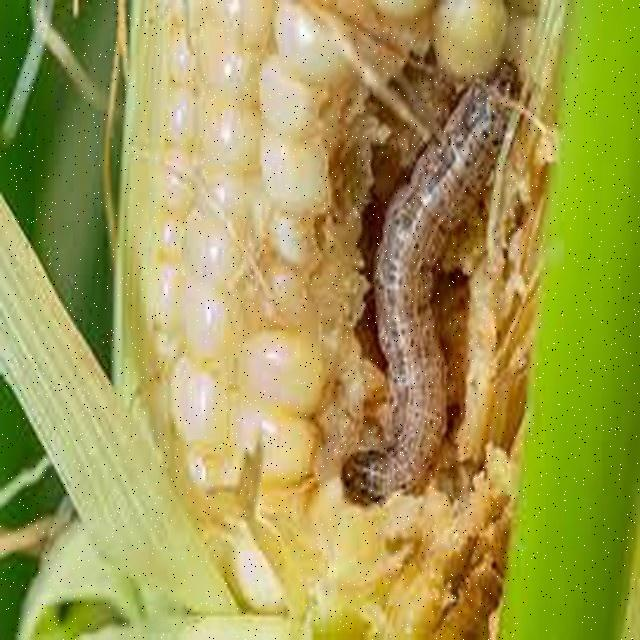worm: (338, 68, 516, 509)
